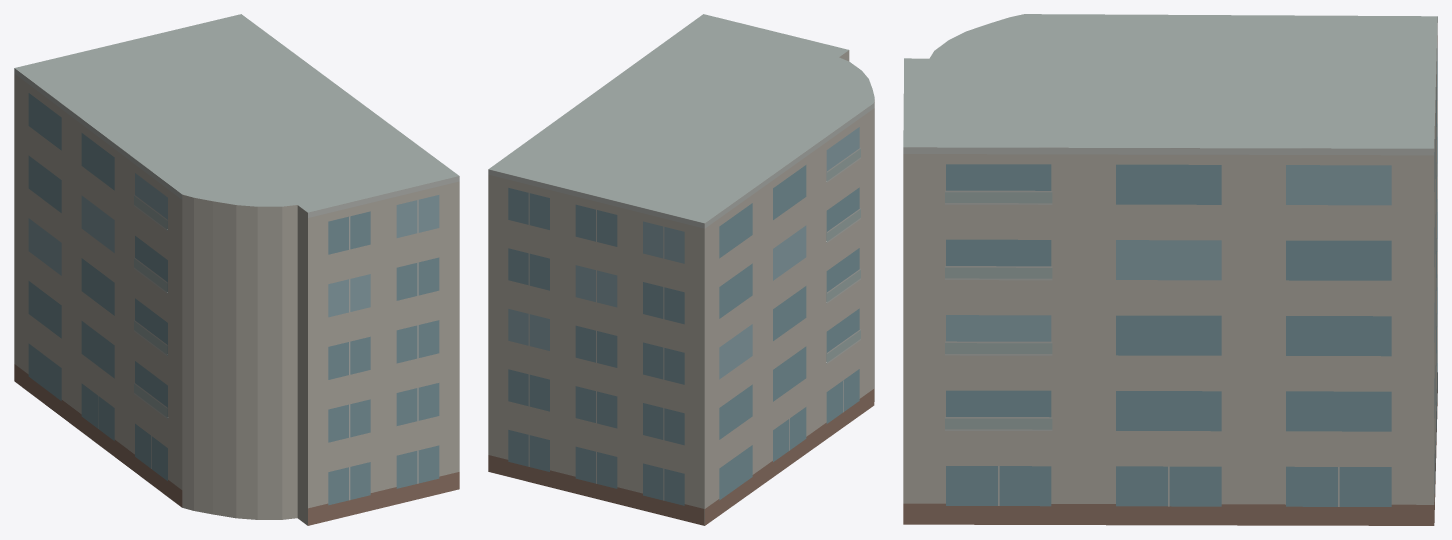
Rendered from survey-upis-32823031.glb.
The picture shows the model from 3 angles, left to right: view 1: azimuth 30°, elevation 25°; view 2: azimuth 150°, elevation 25°; view 3: azimuth 270°, elevation 25°; orthographic projection. The views are drawn at different scales.
Parts seen in each view (by area): view 1: survey-upis-32823031.tmp; view 2: survey-upis-32823031.tmp; view 3: survey-upis-32823031.tmp.
Part boxes in pixels (bbox=[...]): survey-upis-32823031.tmp: bbox=[14, 14, 459, 525]; survey-upis-32823031.tmp: bbox=[488, 14, 874, 525]; survey-upis-32823031.tmp: bbox=[903, 14, 1437, 525].
Bounding box in the file's own units: 10.75 × 14 × 17.99.
